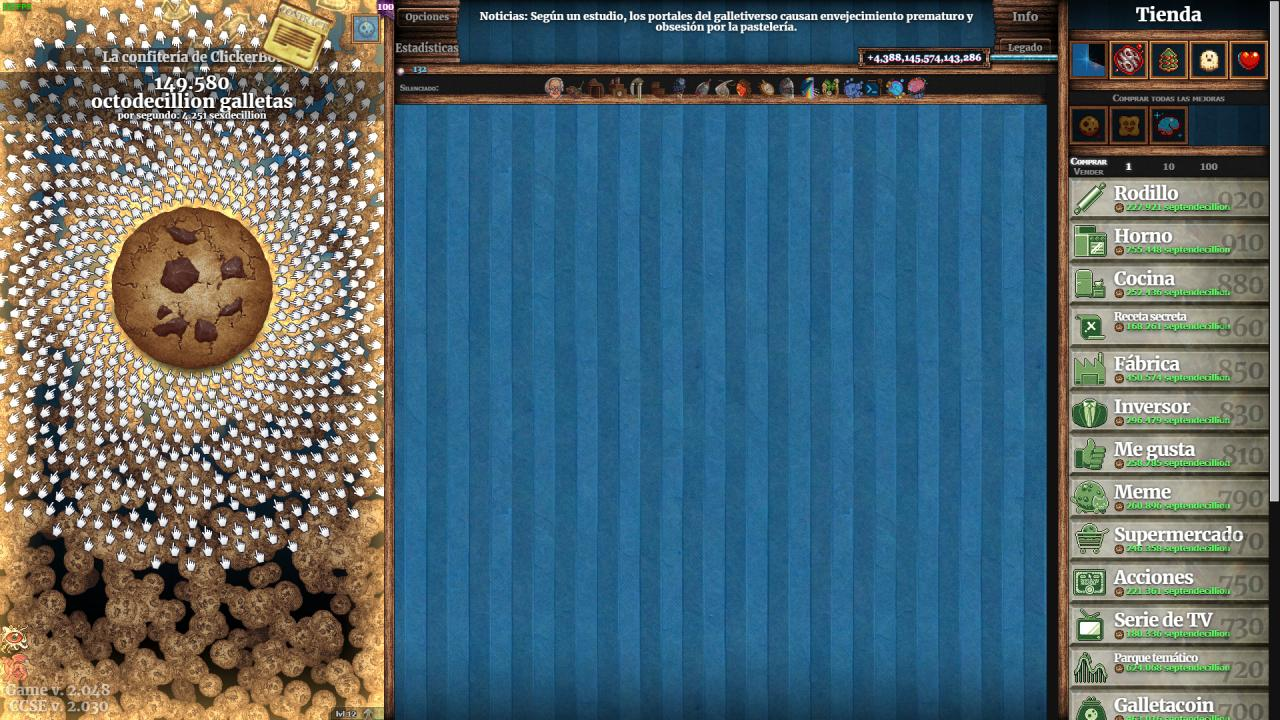GoldenCartridge: (260, 0, 334, 74)
